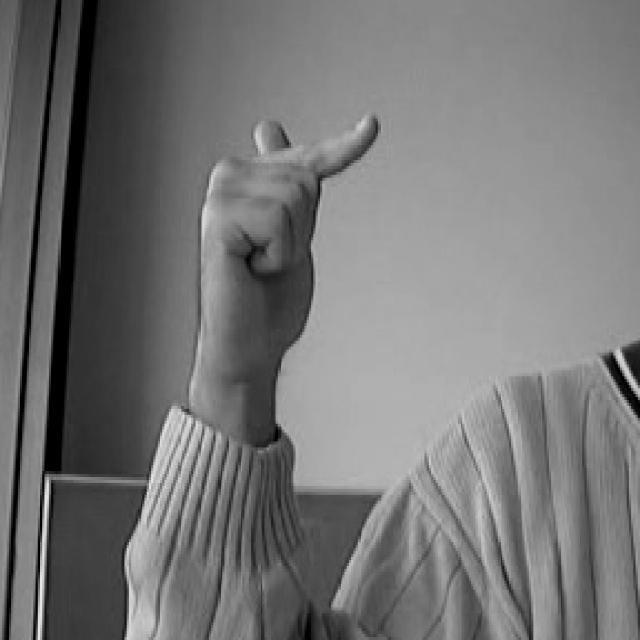T: (181, 100, 403, 380)
